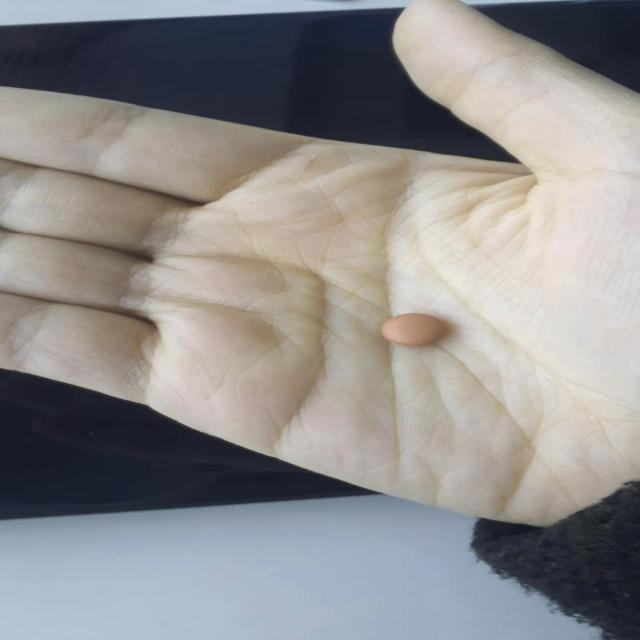pill: (381, 310, 447, 349)
